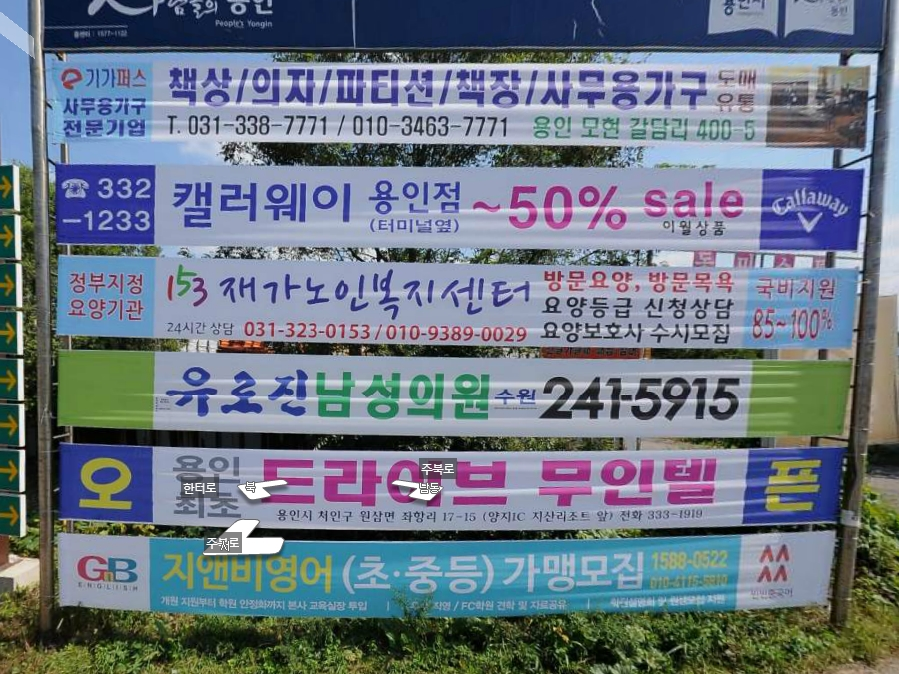banner: (26, 512, 872, 642), (43, 146, 872, 258), (32, 442, 878, 538), (28, 348, 873, 443), (47, 249, 881, 338), (36, 56, 886, 143)
